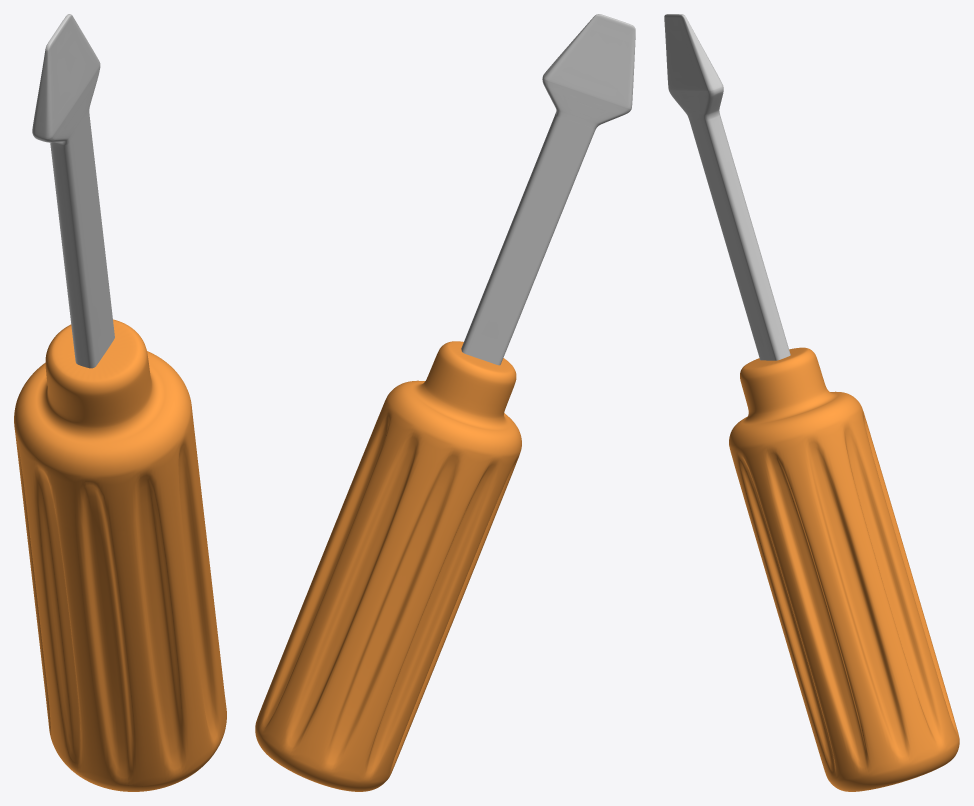
The model's file is screw_driver.glb.
3 renders of one model, left to right at view 1: azimuth 30°, elevation 25°; view 2: azimuth 150°, elevation 25°; view 3: azimuth 270°, elevation 25°, orthographic. The views are drawn at different scales.
Parts seen in each view (by area): view 1: Cylinder.007; view 2: Cylinder.007; view 3: Cylinder.007.
Part boxes in pixels (bbox=[...]): Cylinder.007: bbox=[14, 14, 226, 791]; Cylinder.007: bbox=[255, 14, 635, 791]; Cylinder.007: bbox=[664, 14, 959, 791].
Size of the model in its own units: 4.68 by 12.67 by 4.86.
